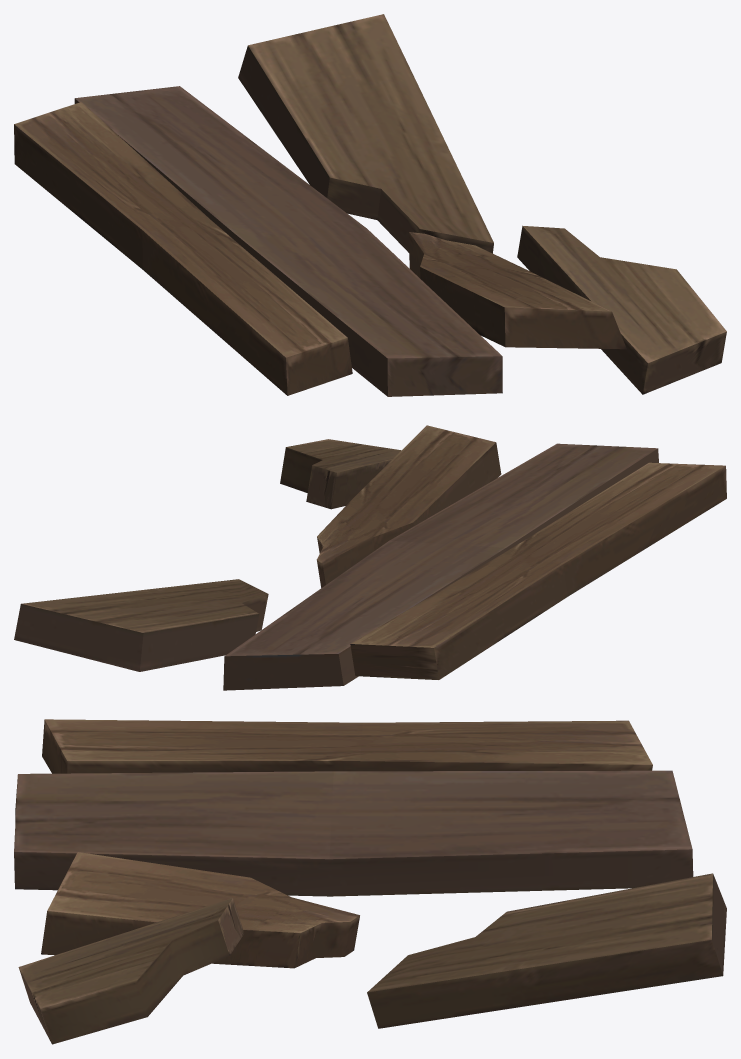
The model's file is yw_zhaoze_brokenbridge_001.FBX.
The picture shows the model from 3 angles, top to bottom: view 1: azimuth 30°, elevation 25°; view 2: azimuth 150°, elevation 25°; view 3: azimuth 270°, elevation 25°; orthographic projection. The views are drawn at different scales.
Visible parts, largest first — view 1: yw_shanlin_brokenbridge_001; view 2: yw_shanlin_brokenbridge_001; view 3: yw_shanlin_brokenbridge_001.
Part boxes in pixels (<box>): yw_shanlin_brokenbridge_001: <box>14,14,726,396</box>; yw_shanlin_brokenbridge_001: <box>14,425,726,690</box>; yw_shanlin_brokenbridge_001: <box>14,719,726,1044</box>.
Size of the model in its own units: 182 by 259 by 56.26.
